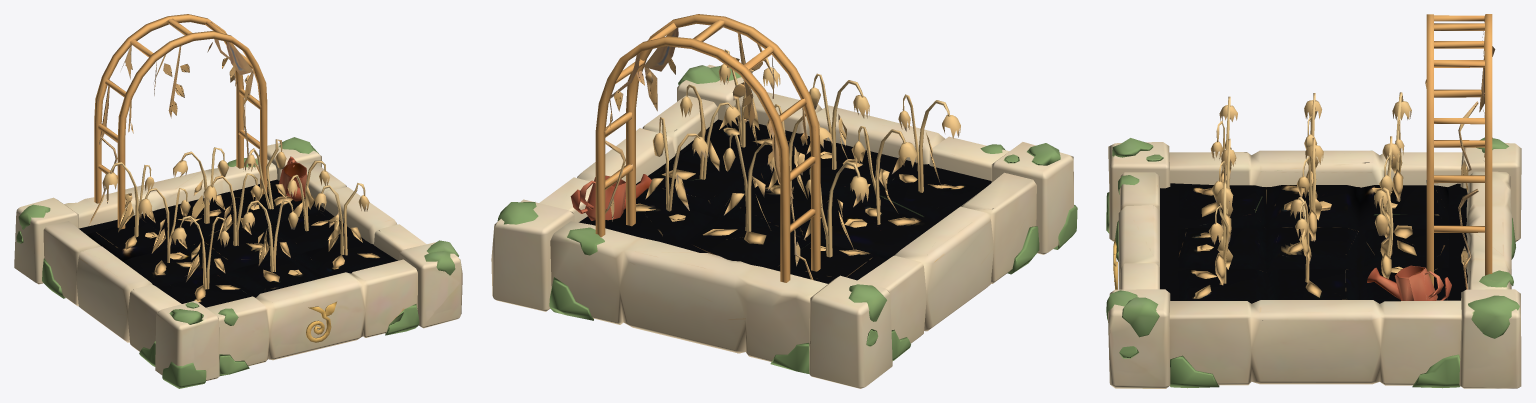
File: jardin_meshy.glb
3 views of the same model, side by side, from view 1: azimuth 30°, elevation 25°; view 2: azimuth 150°, elevation 25°; view 3: azimuth 270°, elevation 25° (orthographic). The views are drawn at different scales.
Visible parts, largest first — view 1: geometry_0; view 2: geometry_0; view 3: geometry_0.
Boxes of the visible parts, bbox=[...] form: geometry_0: bbox=[14, 14, 462, 388]; geometry_0: bbox=[491, 14, 1077, 388]; geometry_0: bbox=[1106, 14, 1521, 388].
Size of the model in its own units: 0.9585 by 0.7153 by 0.9536.
1 material, 1 textured.
